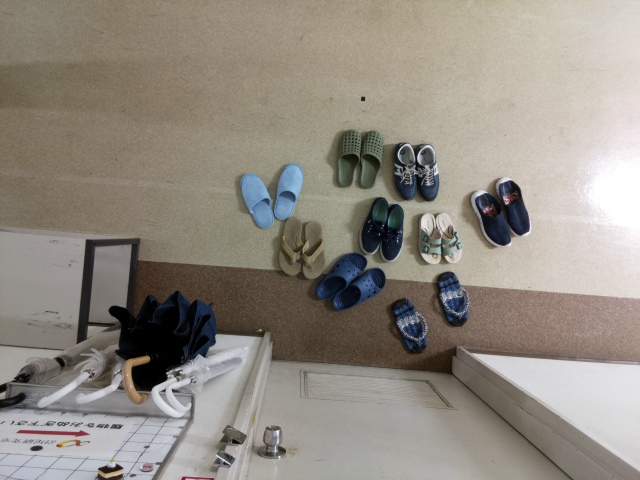Copy of Copy of Copy of Copy of Copy of sandal: (434, 209, 464, 265)
Copy of Copy of Copy of Copy of Copy of shoe: (358, 196, 390, 255)
Copy of Copy of Copy of Copy of Copy of slipper: (357, 129, 384, 190)
Copy of Copy of Copy of Copy of sandal: (416, 212, 442, 266)
Copy of Copy of Copy of Copy of shoe: (378, 203, 405, 262)
Copy of Copy of Copy of Copy of slipper: (335, 128, 361, 189)
Copy of Copy of Copy of sandal: (278, 216, 304, 276)
Copy of Copy of Copy of shoe: (469, 189, 512, 249)
Copy of Copy of Copy of slipper: (331, 266, 386, 311)
Copy of Copy of sandal: (300, 220, 326, 280)
Copy of Copy of shoe: (493, 176, 532, 238)
Copy of Copy of slipper: (314, 251, 368, 301)
Copy of sandal: (389, 296, 430, 354)
Copy of shoe: (413, 143, 440, 202)
Copy of slipper: (238, 172, 274, 228)
sandal: (436, 269, 471, 327)
shoe: (391, 142, 419, 201)
slipper: (272, 162, 303, 222)
